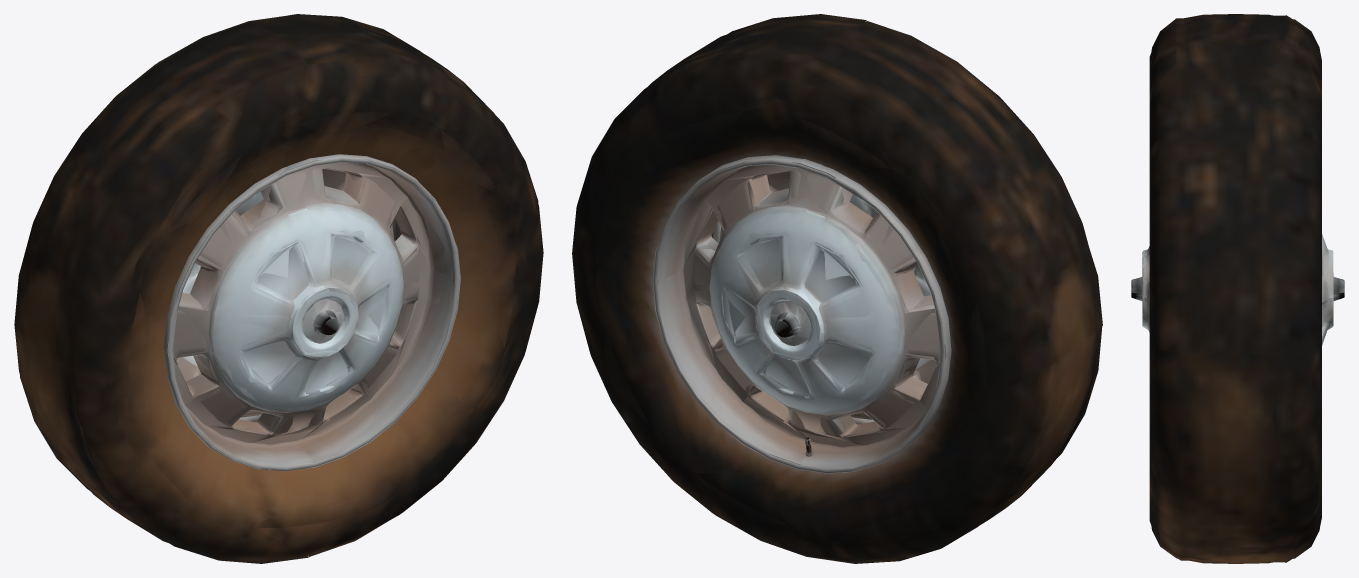
File: wheel_compressed.glb
3 views of the same model, side by side, from view 1: azimuth 30°, elevation 25°; view 2: azimuth 150°, elevation 25°; view 3: azimuth 270°, elevation 25° (orthographic).
Parts seen in each view (by area): view 1: Wheel FR.001, Wheel FR; view 2: Wheel FR.001, Wheel FR; view 3: Wheel FR.001, Wheel FR.
Part boxes in pixels (bbox=[...]): Wheel FR.001: bbox=[14, 16, 543, 562]; Wheel FR: bbox=[15, 14, 543, 563]; Wheel FR.001: bbox=[572, 17, 1098, 563]; Wheel FR: bbox=[572, 14, 1102, 563]; Wheel FR.001: bbox=[1131, 14, 1344, 563]; Wheel FR: bbox=[1131, 15, 1344, 562].
Bounding box in the file's own units: 43.31 × 43.31 × 16.76.
Materials: 2 (2 with a texture image).
